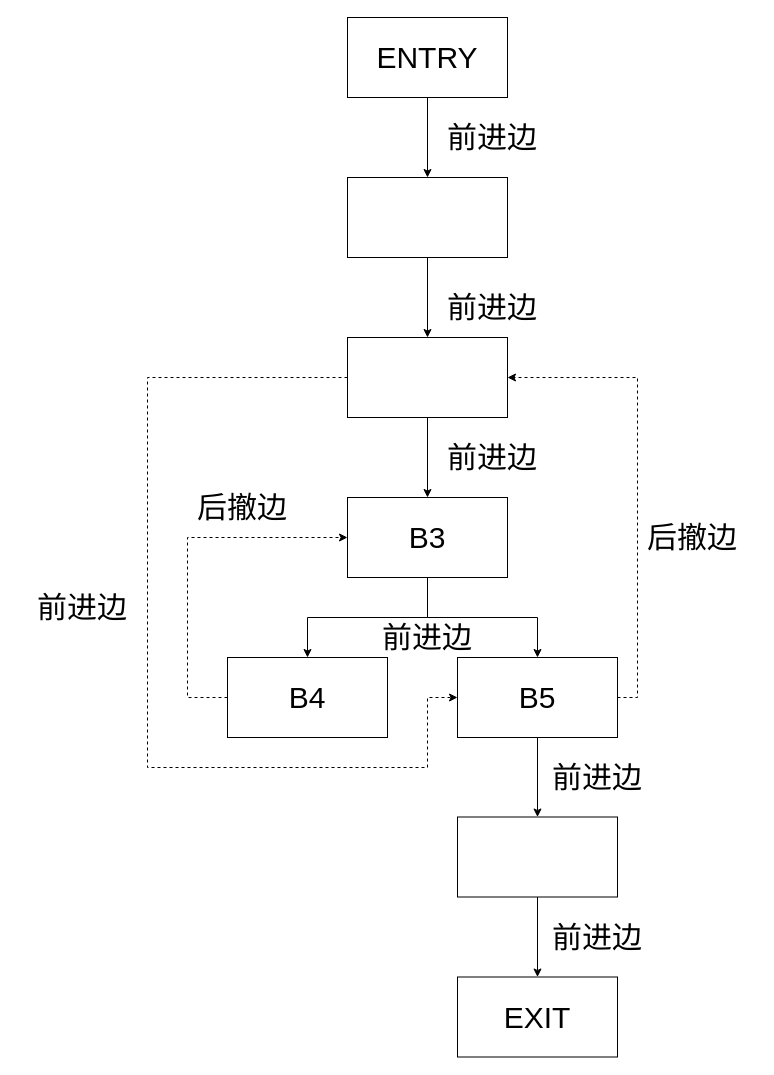
This 774x1075 diagram has some shape labels left out. Here are the shapes that lost their labels. From the top down, the box of each, then its label:
(346, 176, 508, 258): B1
(346, 336, 508, 418): B2
(456, 816, 618, 897): B6
